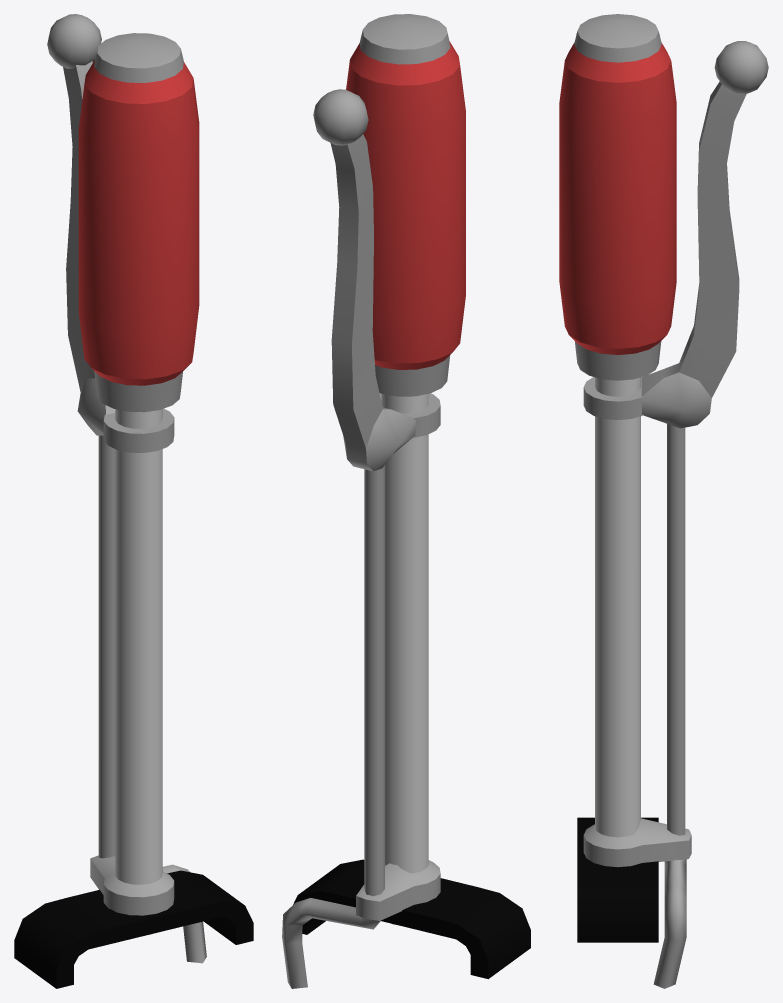
File: LS_Arm_004.fbx
3 views of the same model, side by side, from view 1: azimuth 30°, elevation 25°; view 2: azimuth 150°, elevation 25°; view 3: azimuth 270°, elevation 25° (orthographic). The views are drawn at different scales.
Parts seen in each view (by area): view 1: LS_Arm_004; view 2: LS_Arm_004; view 3: LS_Arm_004.
Part boxes in pixels (x1,y1,x2,y2): LS_Arm_004: (14, 14, 253, 988); LS_Arm_004: (282, 14, 530, 988); LS_Arm_004: (559, 14, 768, 988).
Size of the model in its own units: 96.73 by 448 by 92.08.
